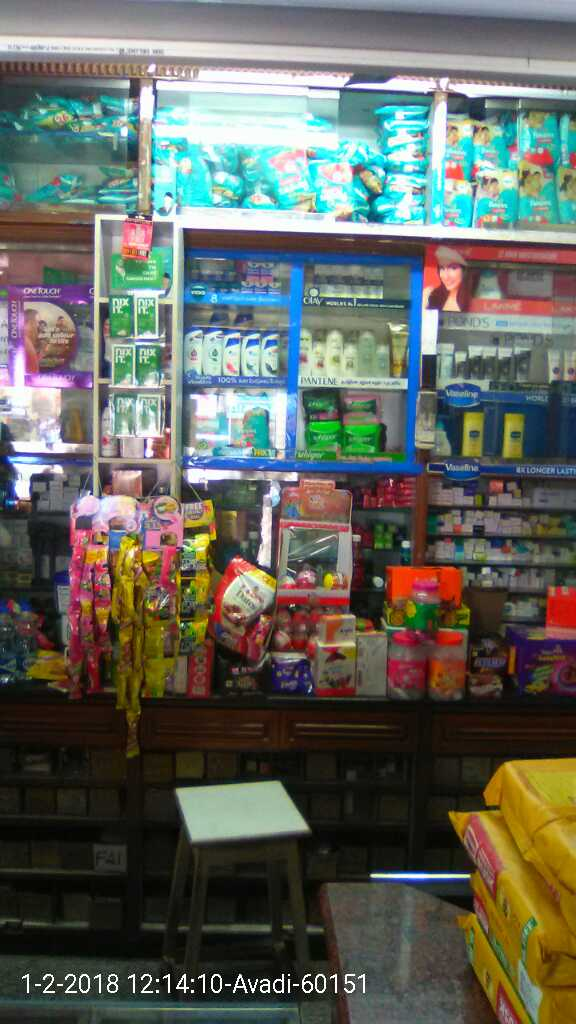vicks: (192, 255, 284, 300)
